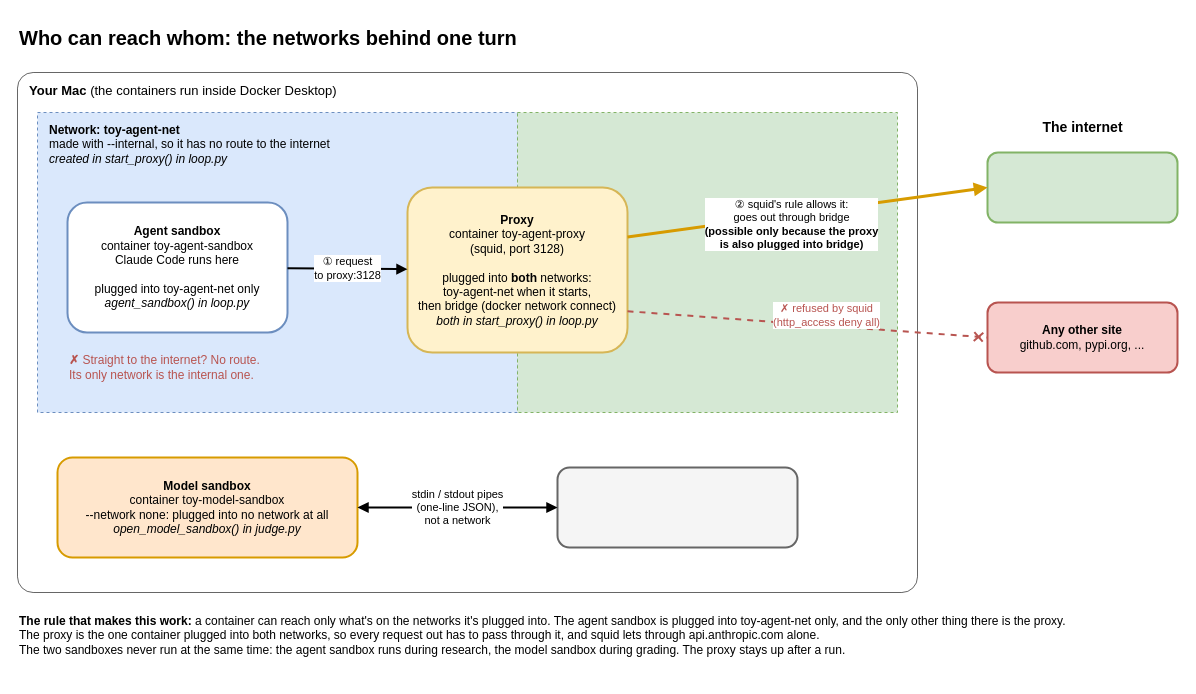
Some shapes in this 1196 by 694 pixel diagram are drawn without their labels. Here are the shapes that lost their labels. From the top down, the box of each, then its label:
(986, 151, 1178, 223): api.anthropic.com Claude's API
(516, 112, 898, 412): Network: bridge Docker's default network; it has a route out to the internet
(556, 466, 798, 548): loop.py and judge.py ordinary programs on your Mac (not in a container)
